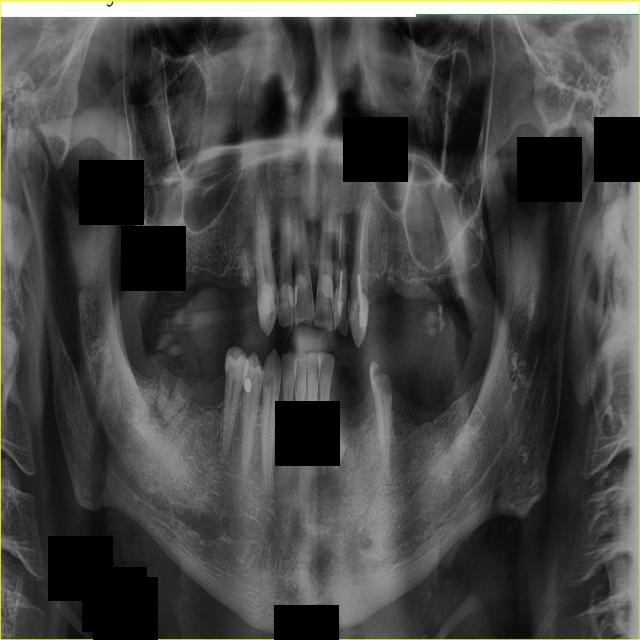71: (356, 274, 366, 327), (337, 267, 345, 315)
72: (155, 377, 196, 428), (154, 366, 178, 413), (329, 427, 351, 470), (236, 247, 254, 292), (384, 262, 398, 287), (329, 416, 336, 443)
74: (357, 199, 369, 266), (338, 213, 342, 259)
NucleOSS Implant: (243, 377, 252, 393)
Sterngold Implant: (367, 360, 397, 400), (222, 356, 236, 380), (261, 373, 277, 390), (255, 372, 264, 391)
Straumann Implant: (348, 292, 369, 348), (257, 280, 278, 336), (315, 272, 333, 331), (294, 274, 315, 324), (333, 286, 350, 337), (278, 281, 295, 326)
